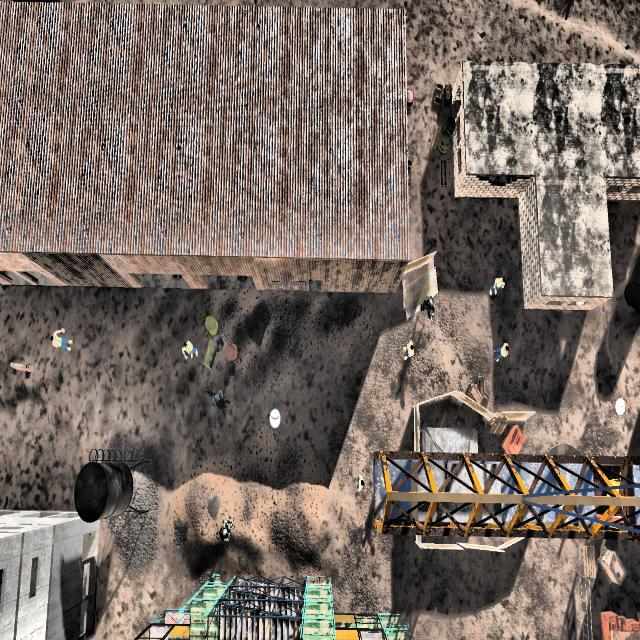bad: (206, 379, 232, 422), (214, 514, 236, 548), (420, 289, 439, 323)
good: (48, 323, 75, 357), (484, 268, 510, 300), (491, 336, 514, 370), (180, 331, 201, 368), (352, 465, 370, 500), (401, 335, 417, 372)
